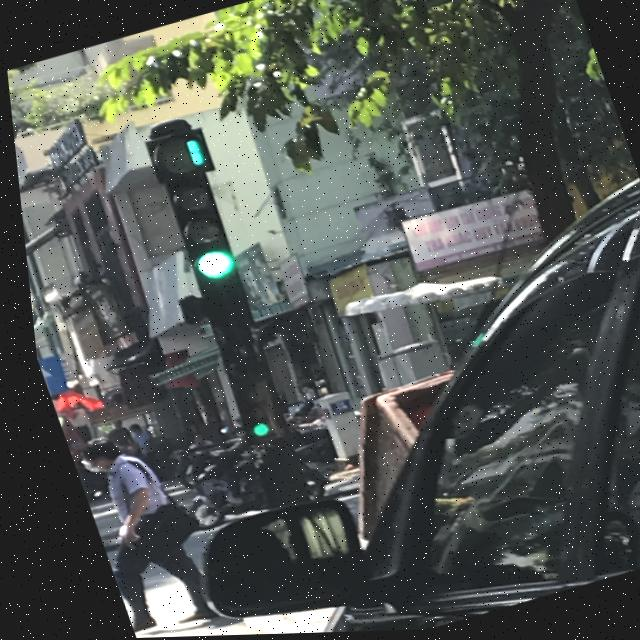Green: (158, 168, 243, 286), (222, 378, 283, 453)
